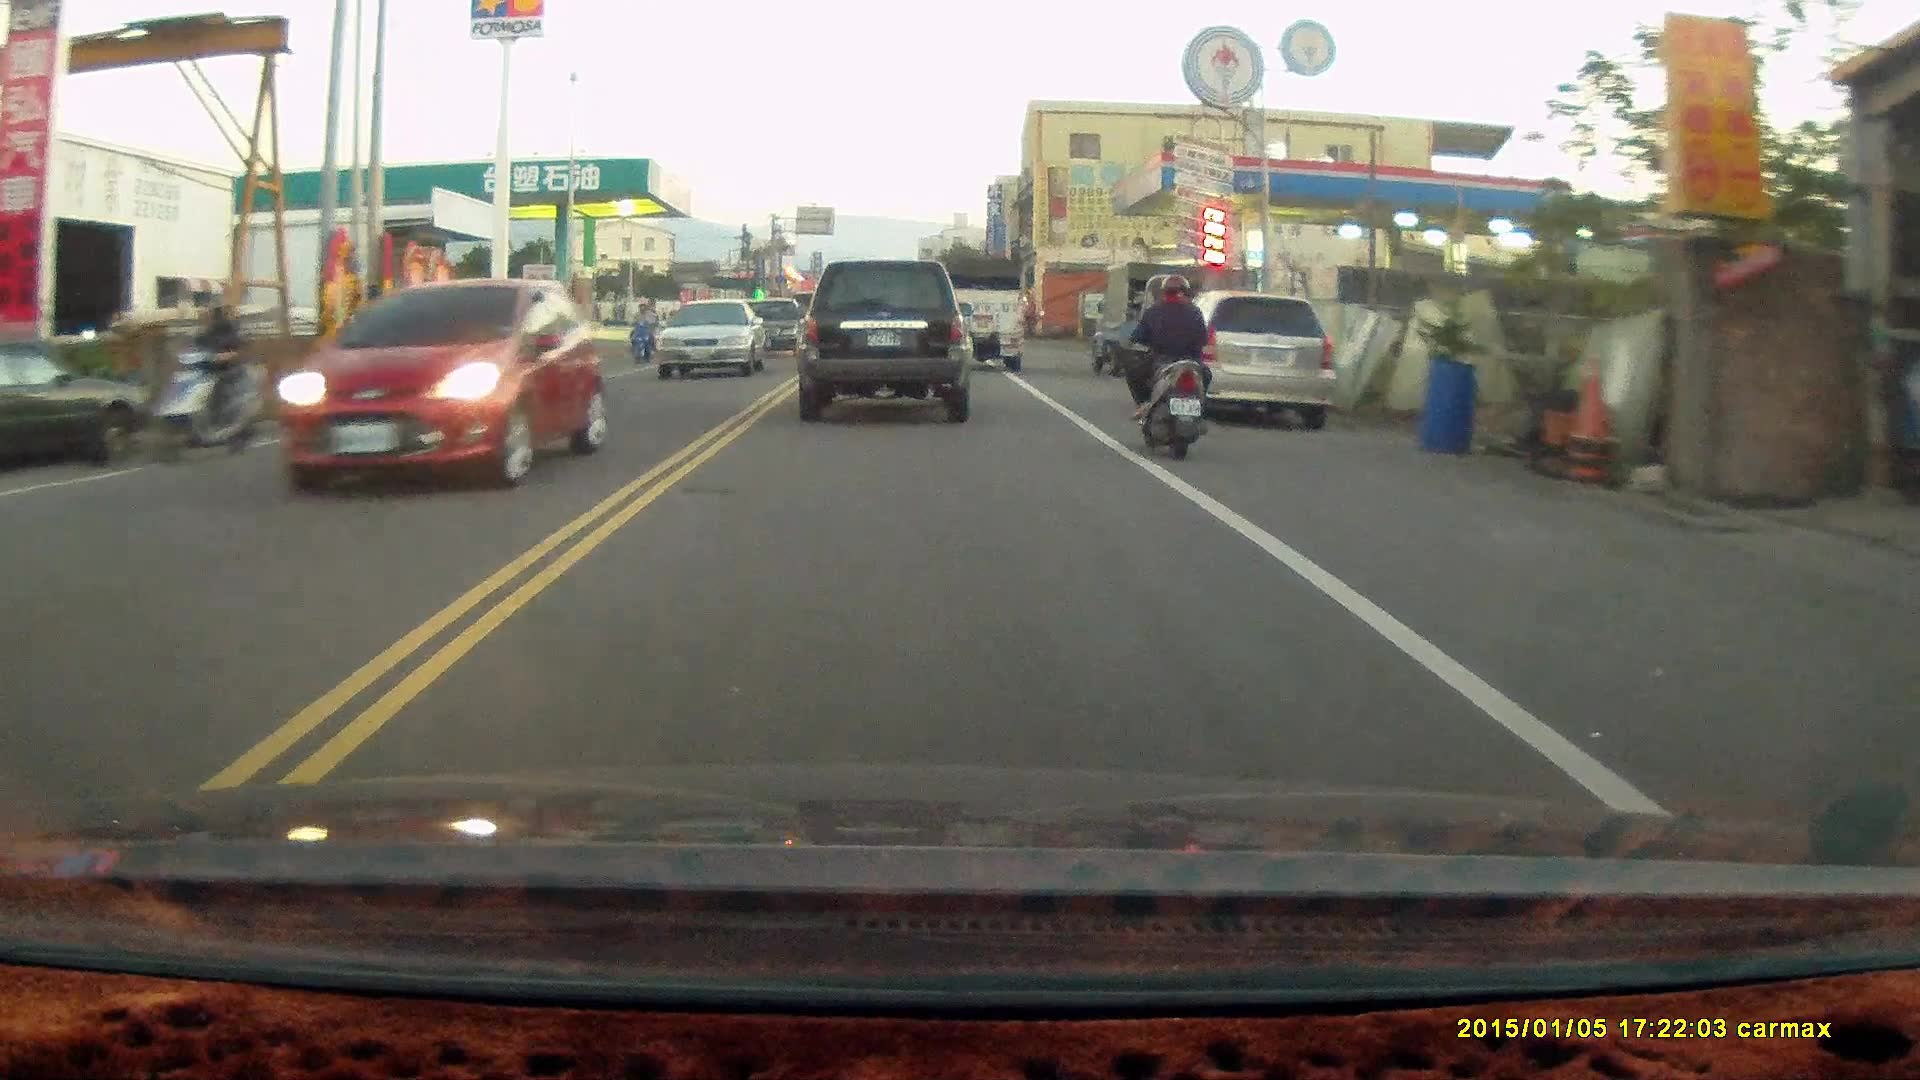rider: (126, 295, 264, 473), (1118, 270, 1215, 456), (625, 297, 661, 363)
vehicle: (286, 278, 603, 494), (371, 280, 571, 430), (795, 259, 969, 424), (1160, 291, 1334, 433), (1, 331, 149, 470), (1091, 262, 1206, 378), (937, 252, 1025, 371), (656, 296, 769, 378), (736, 299, 811, 355)
